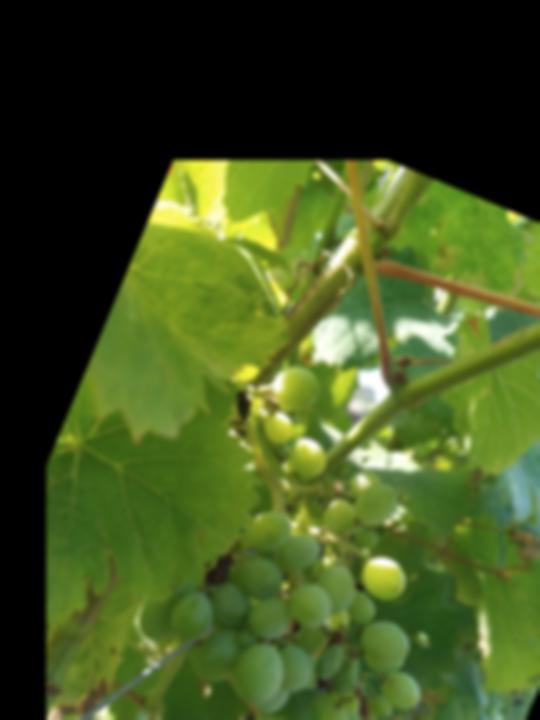grape: (118, 340, 525, 720)
